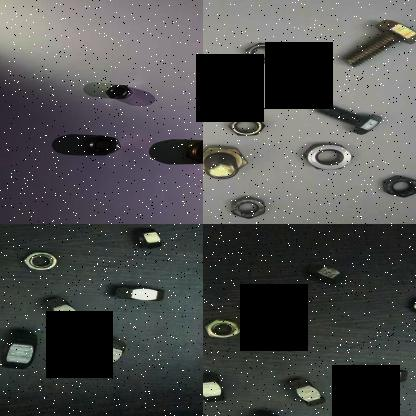Bolts: (338, 13, 416, 68), (306, 98, 388, 136), (203, 143, 259, 182), (203, 83, 226, 119)
NUTS: (0, 327, 60, 377), (300, 141, 356, 174), (39, 292, 93, 326), (109, 281, 174, 308), (222, 108, 274, 140), (85, 334, 131, 370), (284, 375, 330, 410), (225, 191, 272, 224), (238, 40, 296, 66), (378, 167, 416, 201), (351, 364, 415, 384), (303, 262, 346, 287), (260, 331, 308, 353), (130, 225, 168, 252), (203, 317, 242, 343), (18, 247, 60, 271), (80, 133, 120, 157), (203, 370, 228, 406), (181, 137, 203, 165), (103, 81, 133, 101), (405, 293, 416, 319)
